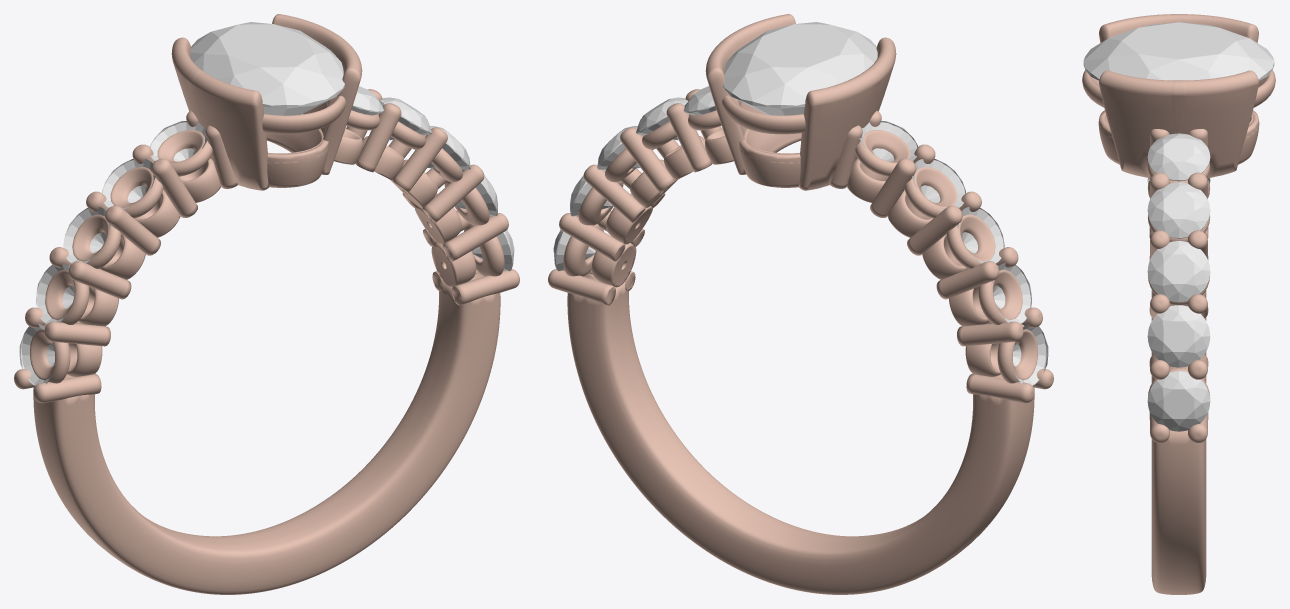
Rendered from diamond-oval-rosegold-halfmoonbezel-straightband-11stone.glb.
The picture shows the model from 3 angles, left to right: view 1: azimuth 30°, elevation 25°; view 2: azimuth 150°, elevation 25°; view 3: azimuth 270°, elevation 25°; orthographic projection.
Visible parts, largest first — view 1: metal, stone.003, side.032, side.033, side.031, side.034, side.030, side.038; view 2: metal, stone.003, side.032, side.033, side.031, side.034, side.030, side.038; view 3: metal, stone.003, side.036, side.037, side.035, side.038, side.039.
Part boxes in pixels (x1,y1,x2,y2): metal: [14, 14, 519, 594]; stone.003: [190, 22, 344, 115]; side.032: [63, 206, 110, 263]; side.033: [102, 158, 155, 208]; side.031: [36, 263, 75, 323]; side.034: [150, 121, 208, 161]; side.030: [19, 323, 54, 385]; side.038: [379, 97, 431, 140]; metal: [548, 14, 1053, 594]; stone.003: [723, 22, 877, 115]; side.032: [957, 206, 1004, 263]; side.033: [912, 158, 965, 208]; side.031: [992, 263, 1031, 323]; side.034: [859, 121, 917, 161]; side.030: [1013, 323, 1048, 385]; side.038: [636, 97, 688, 140]; metal: [1082, 14, 1275, 594]; stone.003: [1083, 22, 1274, 80]; side.036: [1147, 305, 1210, 367]; side.037: [1147, 241, 1210, 302]; side.035: [1147, 371, 1210, 431]; side.038: [1147, 182, 1210, 238]; side.039: [1147, 133, 1210, 181].
Size of the model in its own units: 22.01 by 23.41 by 7.75.
